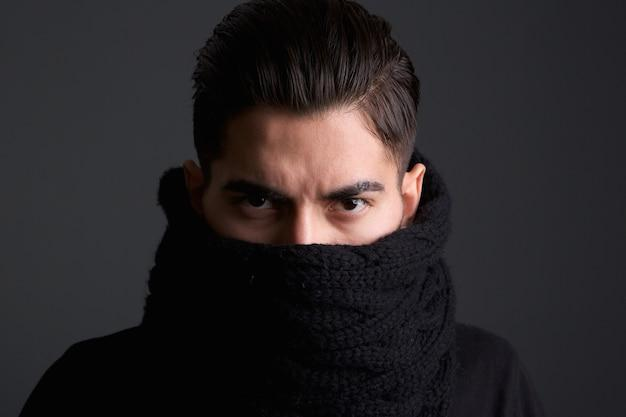scarf-kerchief: (160, 212, 468, 400)
